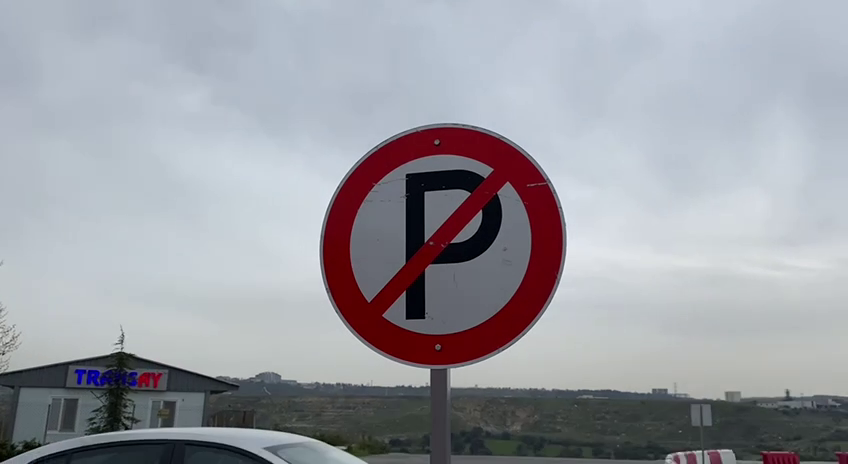noparking: (311, 112, 581, 381)
